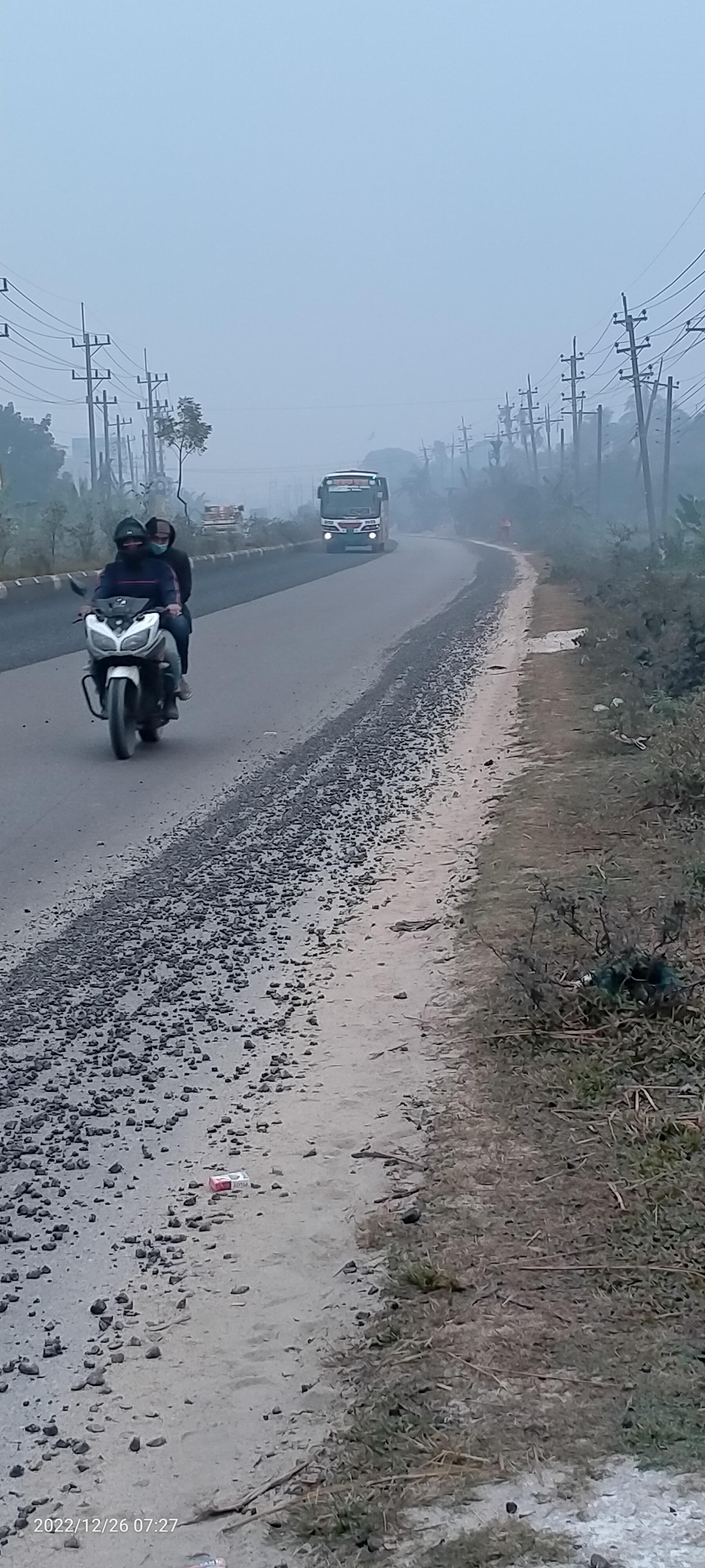Bike: (72, 496, 201, 769)
Bus: (310, 464, 396, 568)
